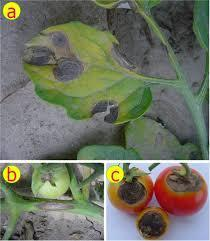tomato early blight: (156, 165, 208, 217), (106, 165, 155, 220), (137, 207, 171, 241)
